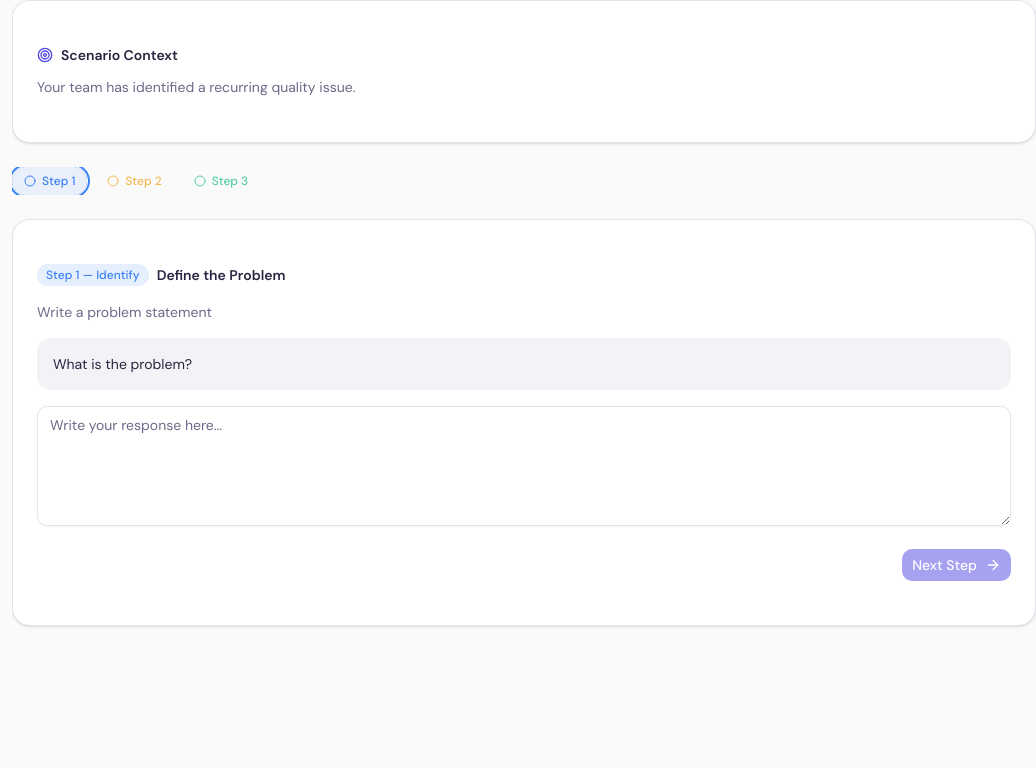
Scenario: ScenarioRunner › enables Next Step button when textarea has content
Type "My response" into the text box at point(524, 466), box [37, 406, 1011, 526]
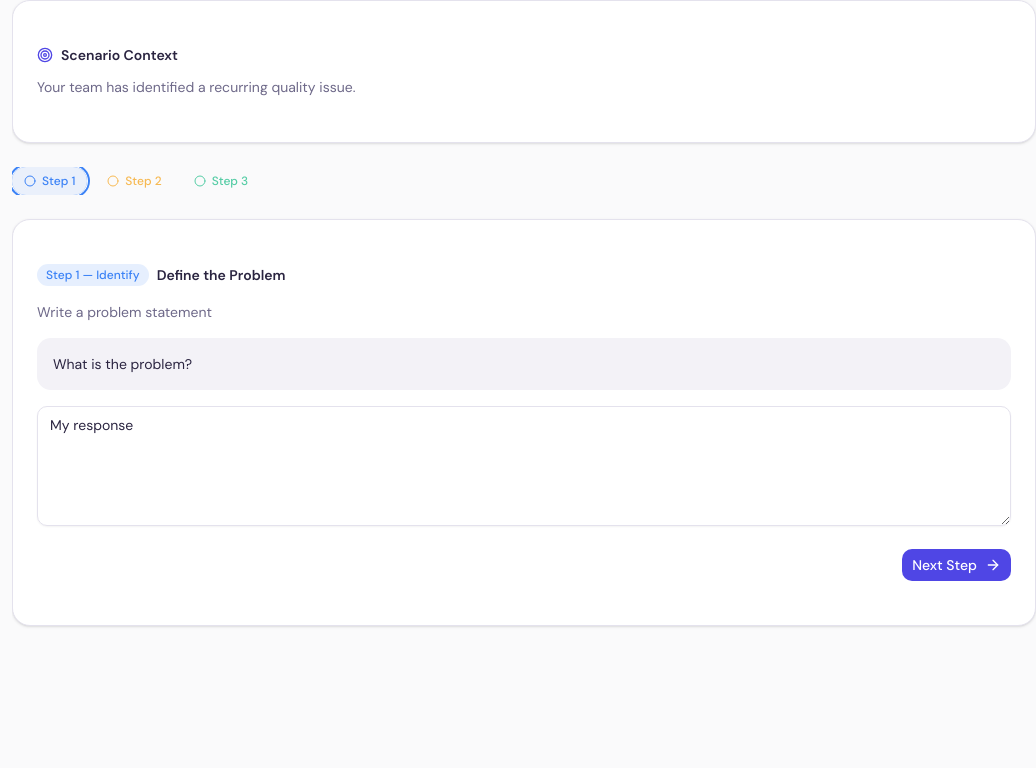
Expected: the button "Next Step" is enabled, [902, 549, 1011, 581]
